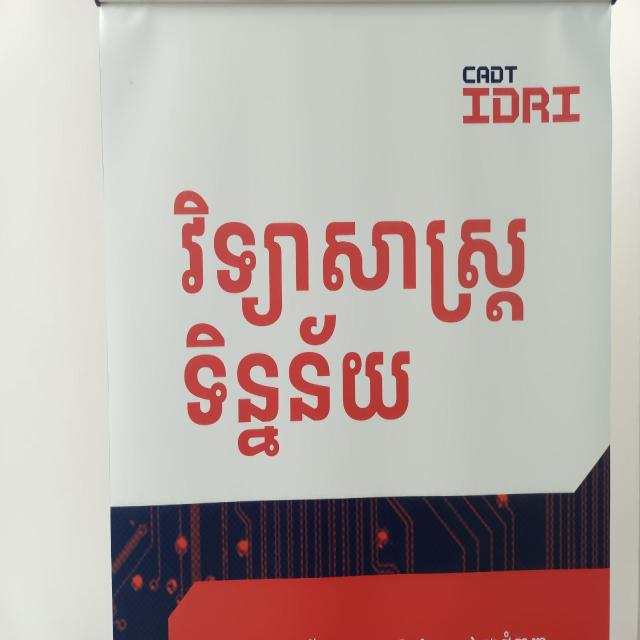Yolov11_80vkh: (164, 187, 532, 333), (179, 305, 420, 471)
